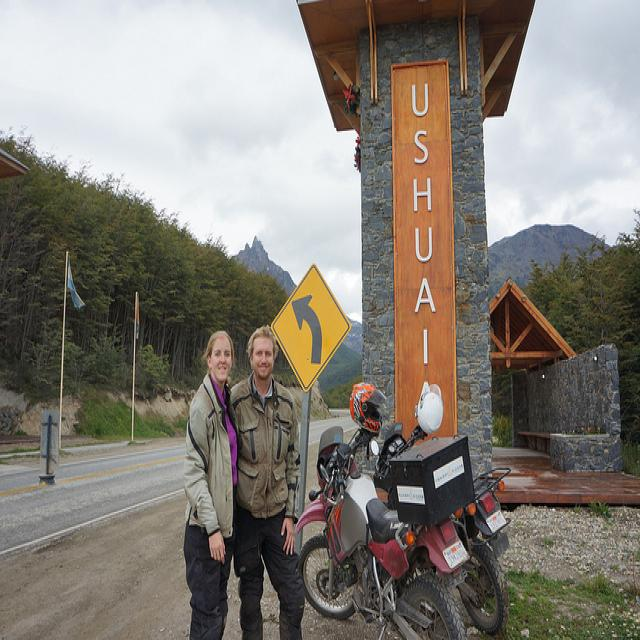motor: (296, 381, 469, 640), (375, 396, 518, 632)
